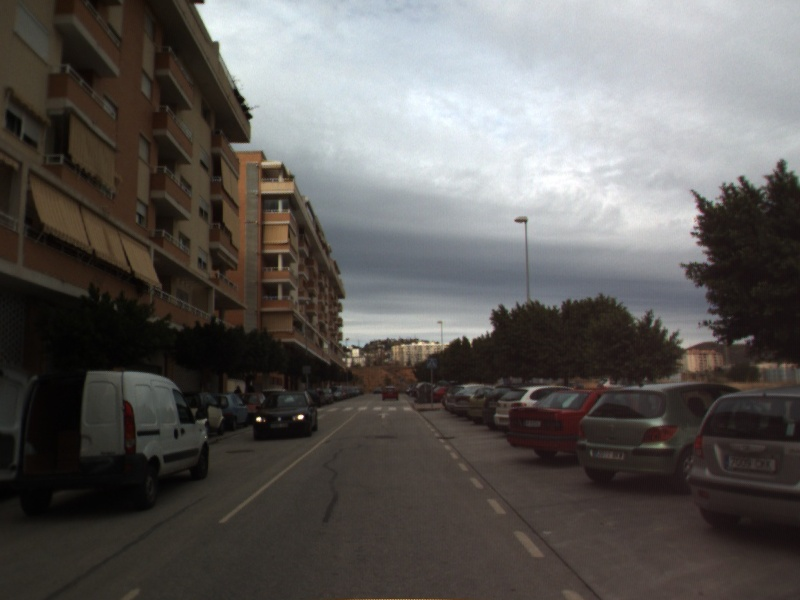STRAIGHT: (376, 410, 392, 420)
